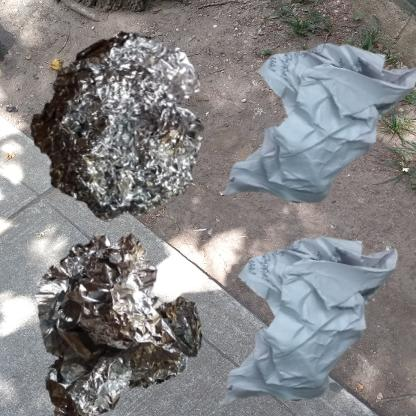aluminio: (10, 10, 237, 252), (10, 213, 233, 416)
papel: (213, 10, 416, 269), (213, 213, 409, 416)
